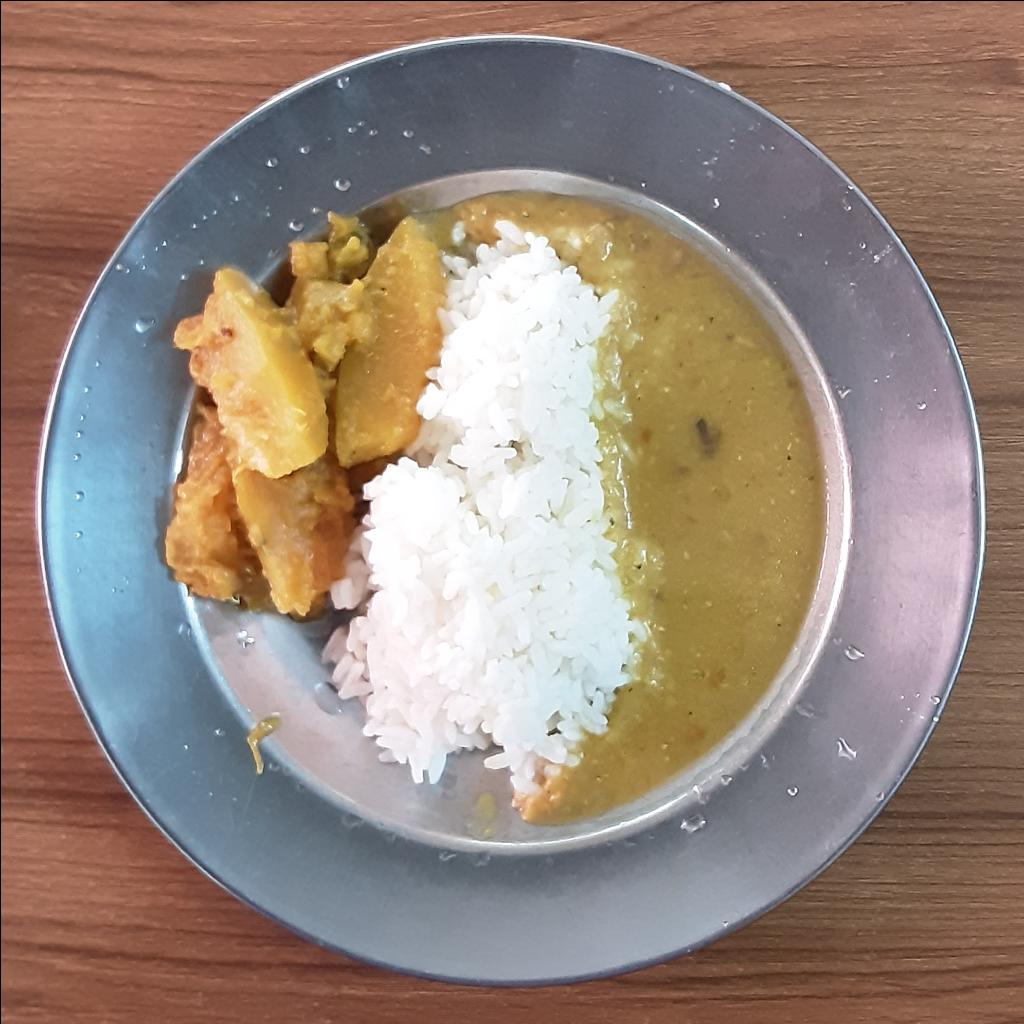daal: (444, 185, 828, 822)
kochu: (159, 207, 444, 616)
rice: (327, 215, 652, 799)
